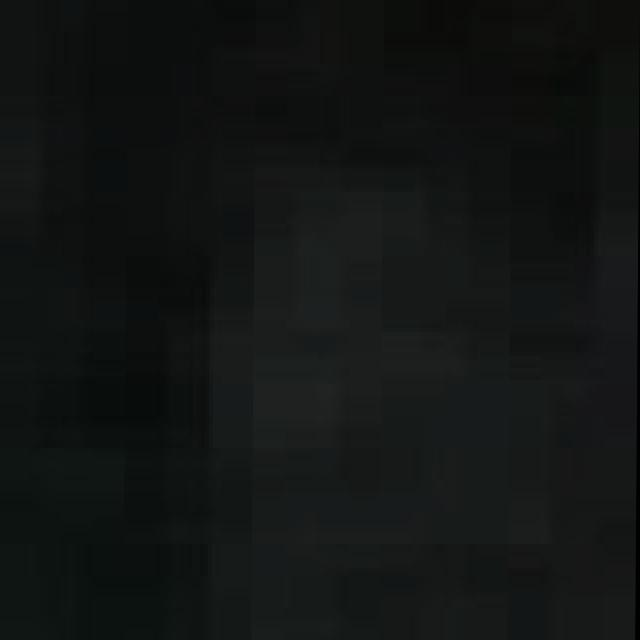diode: (132, 0, 640, 640)
